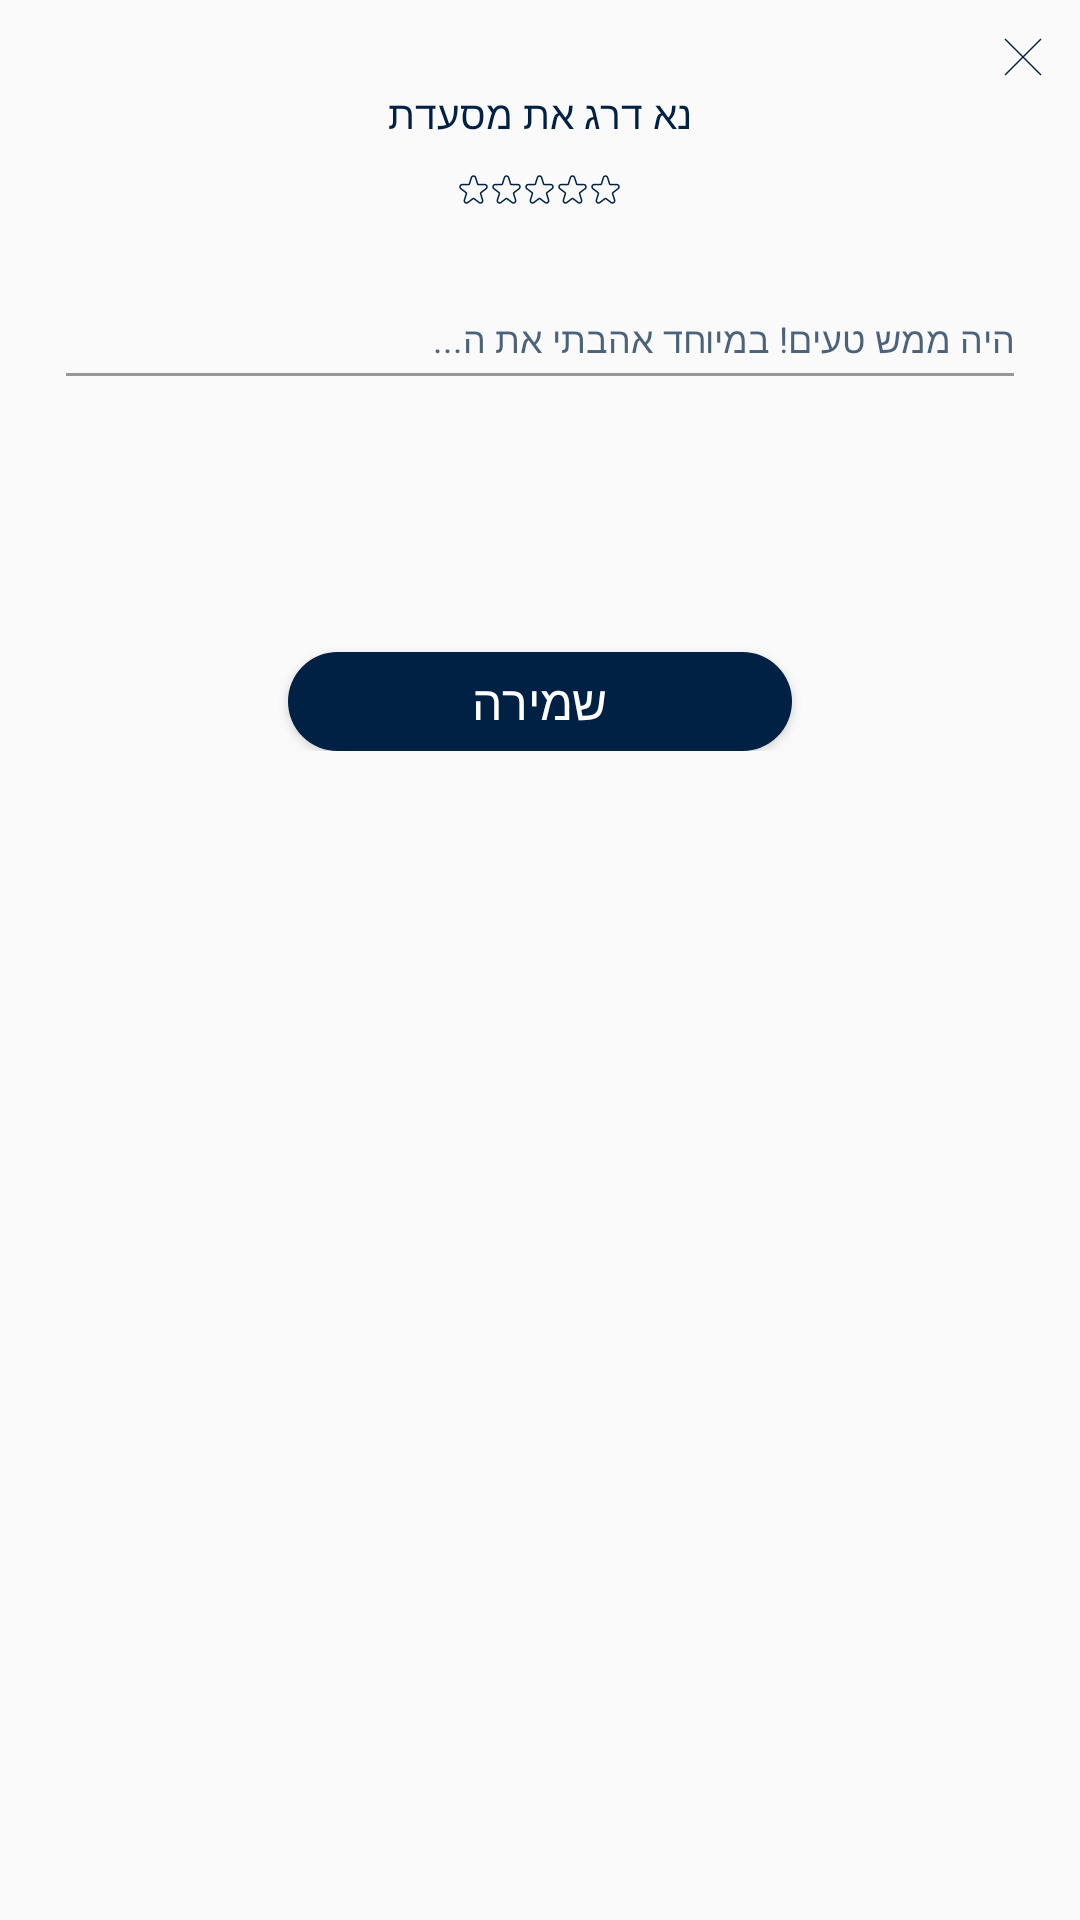

Screen size 1080 x 1920. Icon name, then its box in pixels as [x1, y1, x2, y2]:
close: [1004, 38, 1042, 76]
